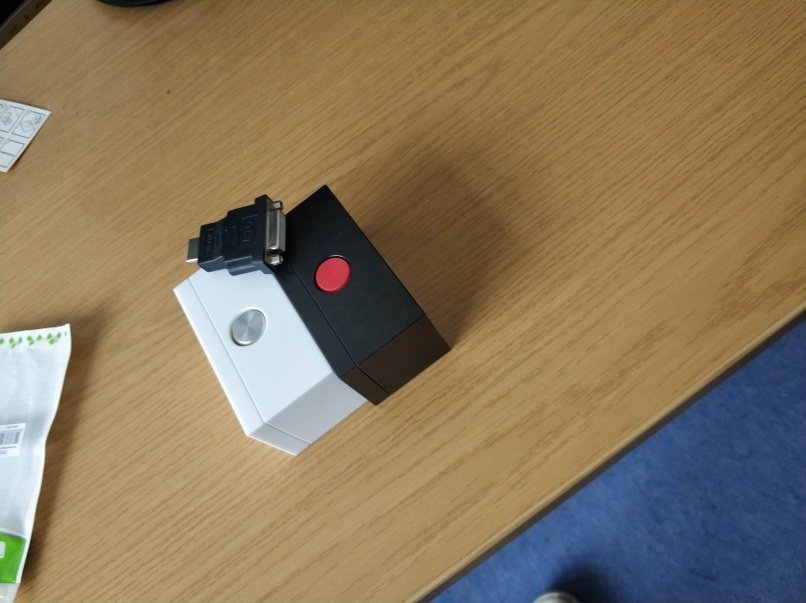black+black+red: (275, 181, 456, 410)
white+white+silver: (171, 266, 373, 457)
